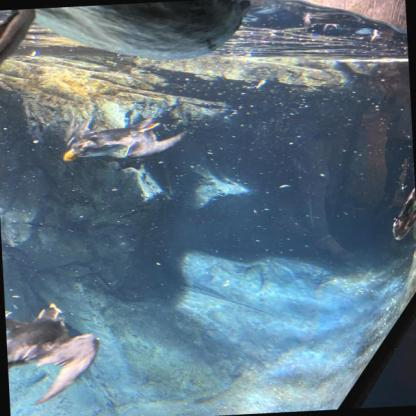puffin: (0, 0, 255, 79), (6, 299, 104, 407), (60, 109, 192, 163)
